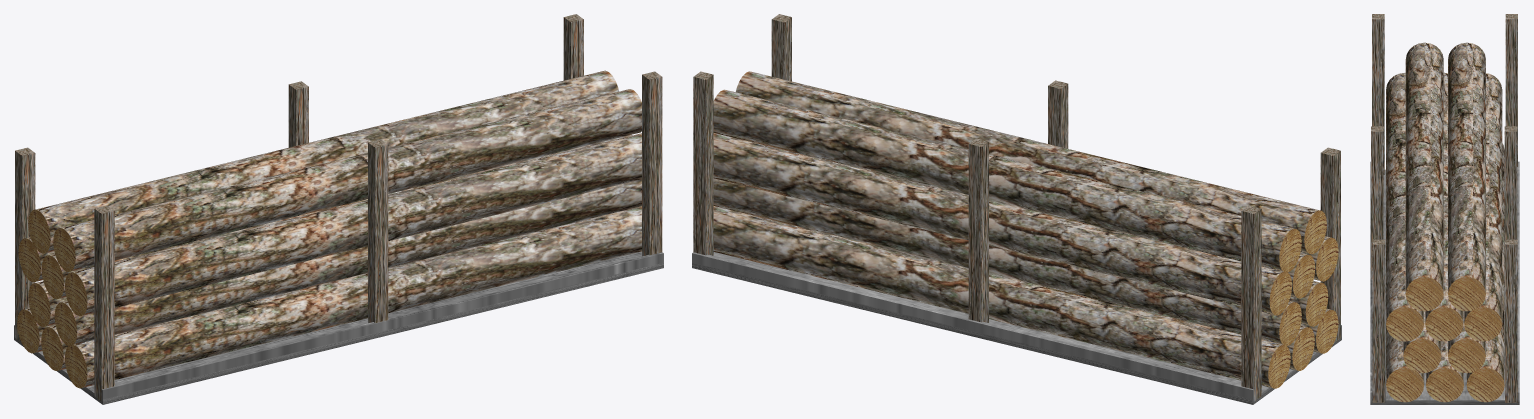
The model's file is Lumber yard.fbx.
The picture shows the model from 3 angles, left to right: view 1: azimuth 30°, elevation 25°; view 2: azimuth 150°, elevation 25°; view 3: azimuth 270°, elevation 25°; orthographic projection. The views are drawn at different scales.
Parts seen in each view (by area): view 1: pasted__pasted__pasted__pCylinder10, pasted__pasted__pasted__pCylinder6, pasted__pasted__pasted__pCylinder1, pasted__pasted__pasted__pCylinder4, pasted__pasted__pasted__pCylinder9, pCube1, pasted__pasted__pasted__pCube2, pCube2, pasted__pasted__pasted__pasted__pCube2, pasted__pasted__pCube2, pasted__pasted__pasted__pCylinder7, pasted__pCube2 (+5 smaller); view 2: pasted__pasted__pasted__pCylinder9, pasted__pasted__pasted__pCylinder3, pasted__pasted__pasted__pCylinder8, pasted__pasted__pasted__pCylinder5, pasted__pasted__pasted__pCylinder10, pCube1, pasted__pasted__pCube2, pasted__pCube2, pasted__pasted__pasted__pasted__pasted__pCube2, pasted__pasted__pasted__pCube2, pasted__pasted__pasted__pasted__pCube2, pCube2 (+5 smaller); view 3: pasted__pasted__pasted__pCylinder10, pasted__pasted__pasted__pCylinder9, pasted__pasted__pasted__pCylinder6, pasted__pasted__pasted__pCylinder8, pCube1, pasted__pasted__pasted__pCylinder7, pasted__pasted__pasted__pCylinder3, pCube2, pasted__pCube2, pasted__pasted__pasted__pCylinder1, pasted__pasted__pasted__pasted__pasted__pCube2, pasted__pasted__pasted__pCube2 (+5 smaller).
Part boxes in pixels (x1,y1,x2,y2): pasted__pasted__pasted__pCylinder10: [53, 89, 641, 271]; pasted__pasted__pasted__pCylinder6: [65, 133, 641, 316]; pasted__pasted__pasted__pCylinder1: [65, 206, 641, 388]; pasted__pasted__pasted__pCylinder4: [54, 179, 641, 345]; pasted__pasted__pasted__pCylinder9: [28, 70, 618, 253]; pCube1: [14, 251, 663, 404]; pasted__pasted__pasted__pCube2: [94, 205, 114, 401]; pCube2: [642, 71, 662, 256]; pasted__pasted__pasted__pasted__pCube2: [368, 139, 388, 323]; pasted__pasted__pCube2: [15, 147, 35, 342]; pasted__pasted__pasted__pCylinder7: [41, 134, 632, 299]; pasted__pCube2: [563, 14, 583, 80]; pasted__pasted__pasted__pCylinder9: [713, 89, 1301, 271]; pasted__pasted__pasted__pCylinder3: [713, 206, 1290, 388]; pasted__pasted__pasted__pCylinder8: [713, 133, 1291, 315]; pasted__pasted__pasted__pCylinder5: [713, 178, 1301, 345]; pasted__pasted__pasted__pCylinder10: [736, 71, 1326, 254]; pCube1: [692, 252, 1341, 404]; pasted__pasted__pCube2: [1241, 205, 1261, 401]; pasted__pCube2: [693, 71, 713, 255]; pasted__pasted__pasted__pasted__pasted__pCube2: [968, 138, 988, 322]; pasted__pasted__pasted__pCube2: [1320, 147, 1340, 342]; pasted__pasted__pasted__pasted__pCube2: [1048, 80, 1068, 148]; pCube2: [771, 14, 791, 81]; pasted__pasted__pasted__pCylinder10: [1405, 42, 1443, 311]; pasted__pasted__pasted__pCylinder9: [1448, 42, 1485, 311]; pasted__pasted__pasted__pCylinder6: [1386, 72, 1423, 341]; pasted__pasted__pasted__pCylinder8: [1464, 73, 1502, 341]; pCube1: [1370, 161, 1519, 404]; pasted__pasted__pasted__pCylinder7: [1425, 72, 1463, 341]; pasted__pasted__pasted__pCylinder3: [1466, 143, 1504, 402]; pCube2: [1372, 239, 1385, 402]; pasted__pCube2: [1505, 239, 1517, 402]; pasted__pasted__pasted__pCylinder1: [1386, 325, 1424, 402]; pasted__pasted__pasted__pasted__pasted__pCube2: [1504, 126, 1517, 286]; pasted__pasted__pasted__pCube2: [1372, 14, 1384, 174].
Size of the model in its own units: 29.08 by 9.27 by 7.85.
6 materials, 6 textured.
